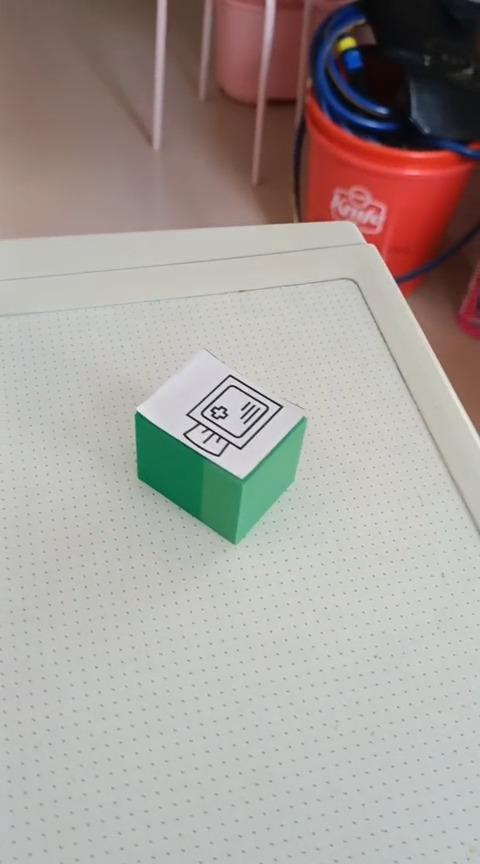Gauze: (133, 346, 307, 545)
